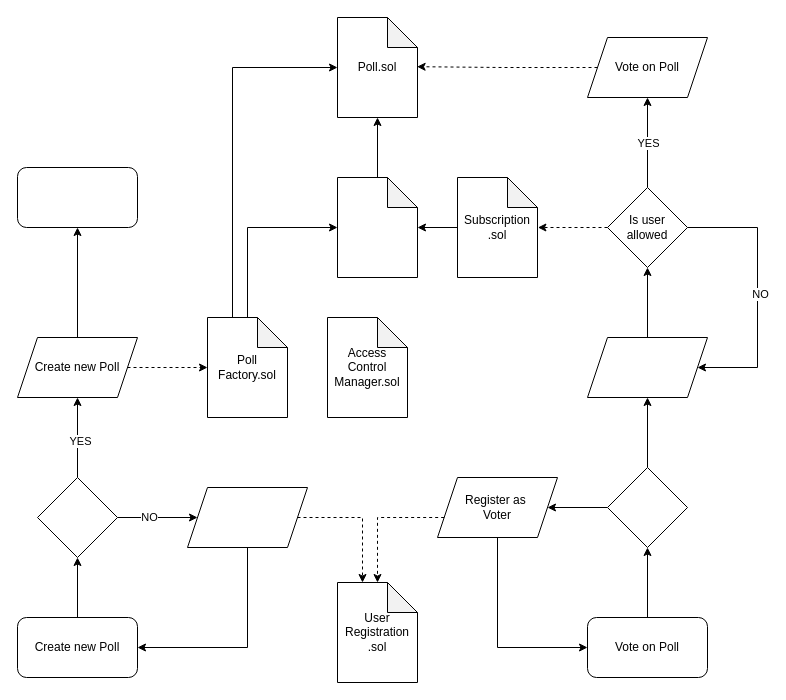
The diagram is 786 pixels wide and 700 high, and some of its shapes have lost their labels. Each missing label, with the box of its shape:
Is User Instance: (36, 476, 118, 558)
Is User Voter: (606, 466, 688, 548)
Poll Created: (16, 166, 138, 228)
Register as Instance: (186, 486, 308, 548)
Subscribe to Poll: (586, 336, 708, 398)
Token Distribution .sol: (336, 176, 418, 278)
